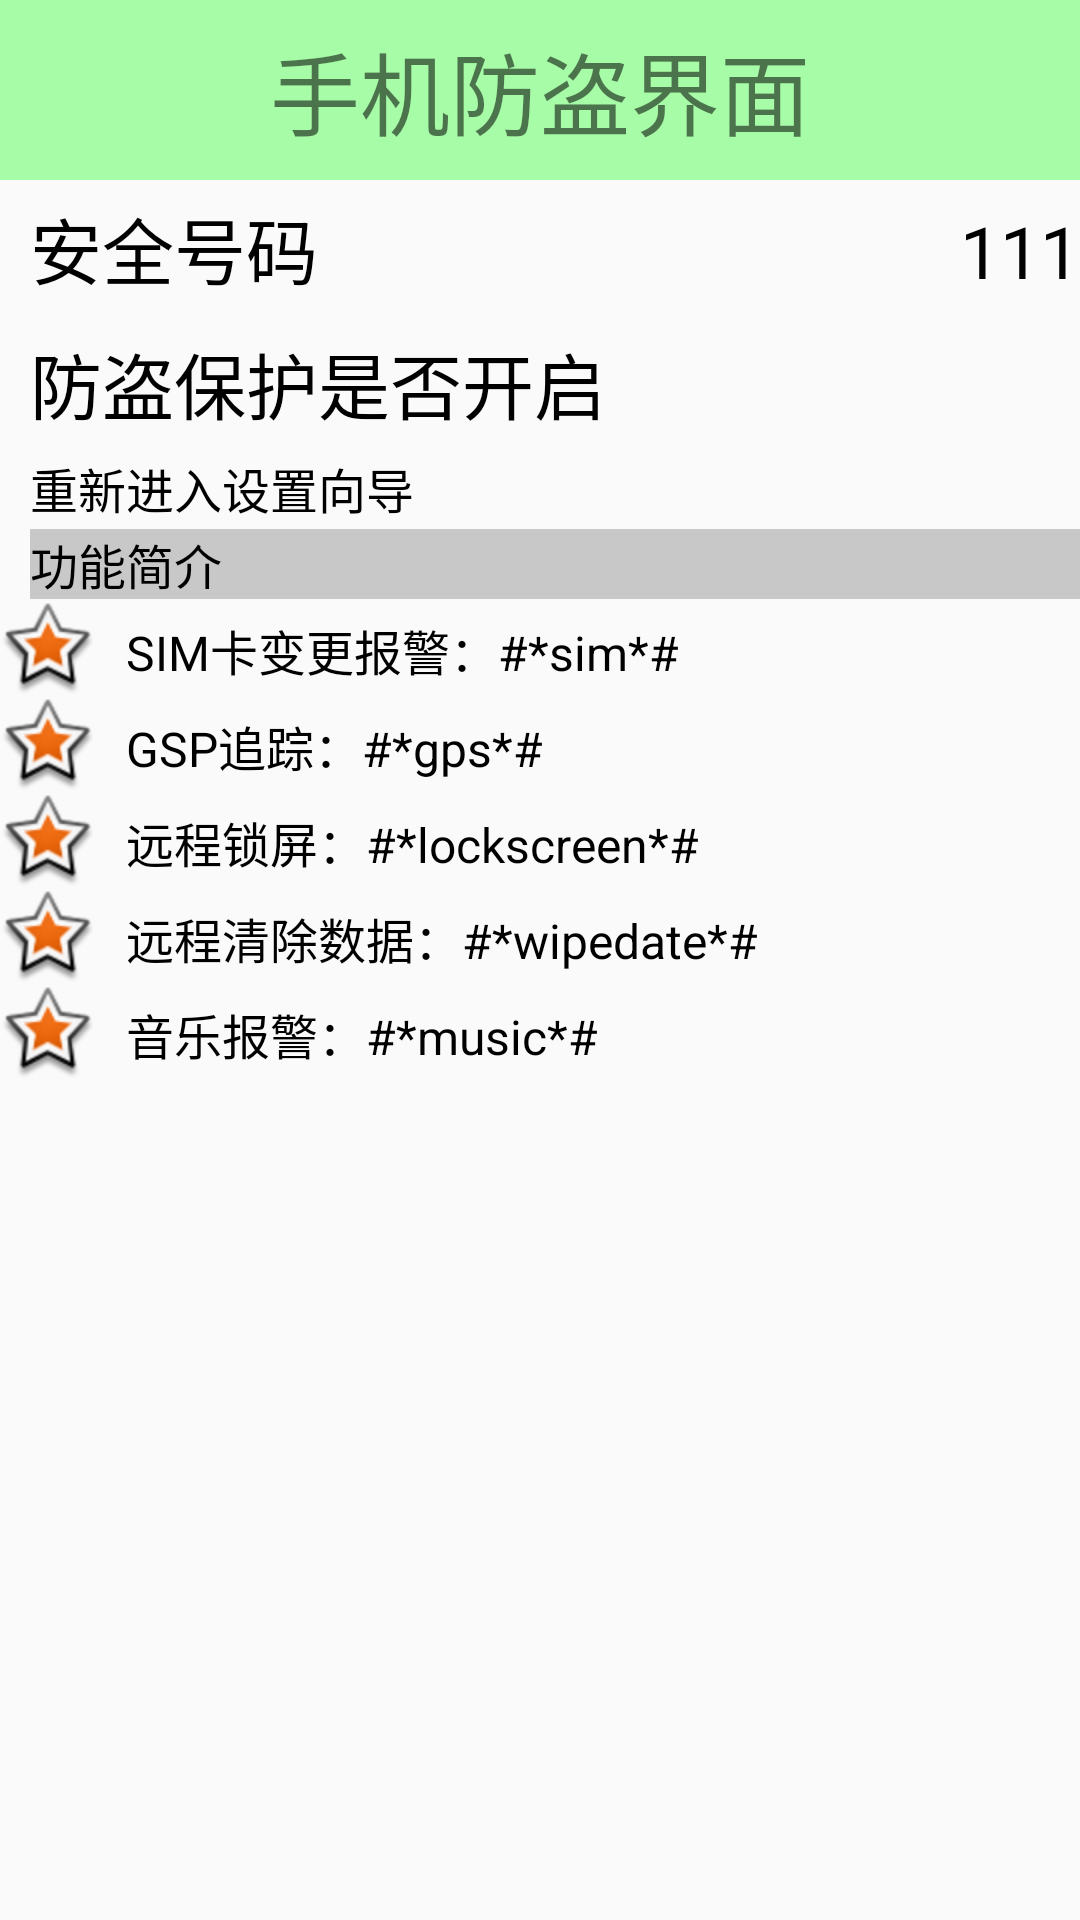

Icons on this 1080*1920 Android screen, each with the point to tap as [x,y]:
star on: [48,646], [48,742], [48,838], [48,934], [48,1030]
